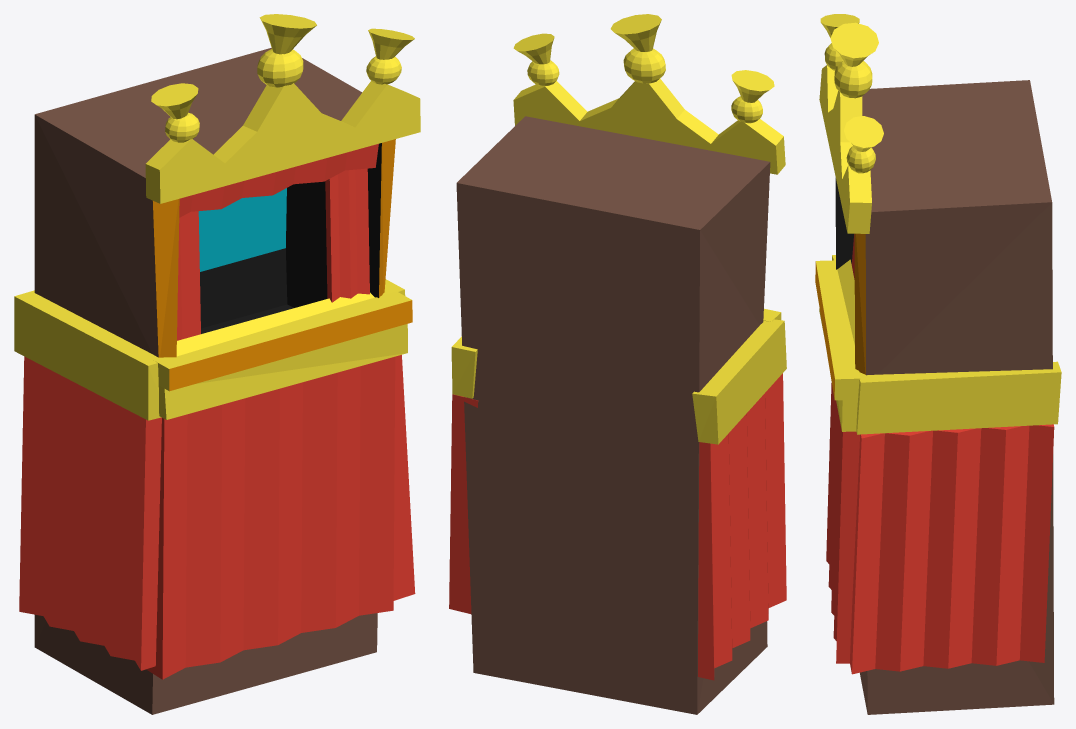
The model's file is theatre.glb.
3 views of the same model, side by side, from view 1: azimuth 30°, elevation 25°; view 2: azimuth 150°, elevation 25°; view 3: azimuth 270°, elevation 25° (orthographic). The views are drawn at different scales.
Visible parts, largest first — view 1: Node; view 2: Node; view 3: Node.
Boxes of the visible parts, bbox=[...] form: Node: bbox=[14, 14, 420, 714]; Node: bbox=[449, 14, 786, 714]; Node: bbox=[815, 14, 1061, 714].
Size of the model in its own units: 0.3488 by 0.7115 by 0.2497.
